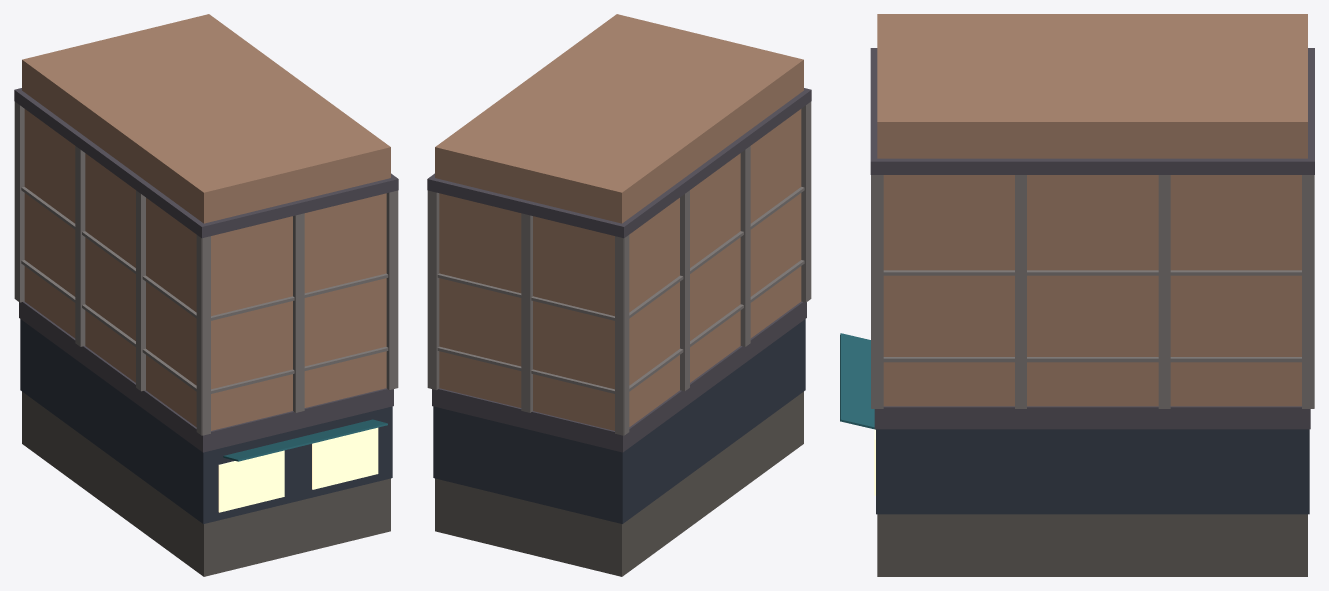
Rendered from building_1.glb.
The picture shows the model from 3 angles, left to right: view 1: azimuth 30°, elevation 25°; view 2: azimuth 150°, elevation 25°; view 3: azimuth 270°, elevation 25°; orthographic projection. The views are drawn at different scales.
Visible parts, largest first — view 1: building; view 2: building; view 3: building.
Boxes of the visible parts, x1=… form: building: x1=14, y1=14, x2=398, y2=576; building: x1=427, y1=14, x2=811, y2=576; building: x1=840, y1=14, x2=1314, y2=576.
Bounding box in the file's own units: 10 × 18.65 × 17.64.
